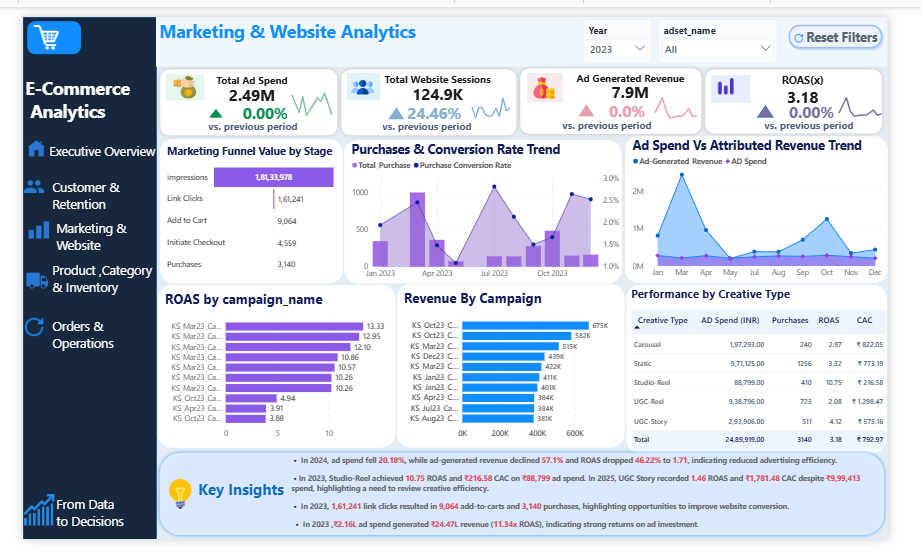

Layout of this report page (visuals, bound fields, positions):
{"tool":"powerbi","page":{"name":"Page 3","canvas":[1840,1110],"ordinal":2},"visuals":[{"type":"shape","box":[0,0,284.6,1500],"z":0},{"type":"actionButton","box":[1622.6,11.3,210.3,62.1],"z":0,"group":"g5"},{"type":"shape","box":[1048.2,101.1,403.6,157.9],"z":0,"group":"g4"},{"type":"shape","box":[1442.9,102,394.1,155],"z":0,"group":"g3"},{"type":"shape","box":[667.9,102.5,391.1,158.9],"z":0,"group":"g2"},{"type":"shape","box":[283.9,102.7,394.6,158.9],"z":0,"group":"g1"},{"type":"shape","box":[284,0,1556,106],"z":1000},{"type":"image","box":[1626,33.7,46.6,22.4],"z":1000,"group":"g5"},{"type":"cardVisual","title":"Ad Generated Revenue","fields":{"Data":["Dax_Measure-3.Ad-Generated_Revenue"]},"box":[1174.6,115.1,235.7,73.2],"z":1000,"group":"g4"},{"type":"cardVisual","title":"Total Website Sessions","fields":{"Data":["Dax_Measure-3.Total Website Sessions"]},"box":[765.6,117.2,232.1,78.2],"z":1000,"group":"g2"},{"type":"cardVisual","title":"ROAS(x)","fields":{"Data":["Dax_Measure-3.ROAS"]},"box":[1557.7,118.1,203.5,78.4],"z":1000,"group":"g3"},{"type":"cardVisual","title":"Total Ad Spend","fields":{"Data":["Dax_Measure-3.Total_AD_Spend"]},"box":[401.9,120.6,174.3,80.3],"z":1000,"group":"g1"},{"type":"textbox","box":[284.6,0,578.8,105.8],"z":2000},{"type":"shape","box":[688.3,120,71.4,58.2],"z":2000,"group":"g2"},{"type":"shape","box":[1072.5,120.3,76.4,62.4],"z":2000,"group":"g4"},{"type":"shape","box":[305,122.4,81.9,55.5],"z":2000,"group":"g1"},{"type":"shape","box":[1463.3,124.2,83.7,58.8],"z":2000,"group":"g3"},{"type":"shape","box":[8.2,8.2,115.6,71.1],"z":3000},{"type":"image","box":[8.9,17.8,82.2,53.3],"z":4000},{"type":"cardVisual","fields":{"Data":["Dax_Measure-3.AD_generated_revenue_YOY_growth %"]},"box":[1201.4,168.7,126.8,60.7],"z":4000,"group":"g4"},{"type":"cardVisual","fields":{"Data":["Dax_Measure-3.ROAS YoY Growth %"]},"box":[1588.3,171,143.1,60.6],"z":4000,"group":"g3"},{"type":"cardVisual","fields":{"Data":["Dax_Measure-3.Session_YOY_Growth %"]},"box":[803.9,181.5,133.9,44.6],"z":4000,"group":"g2"},{"type":"cardVisual","fields":{"Data":["Dax_Measure-3.Ad_Spend_YoY_Growth %"]},"box":[413.9,181.6,167.4,43.3],"z":4000,"group":"g1"},{"type":"textbox","box":[0,121.2,284.6,117.3],"z":5000},{"type":"image","box":[376.2,186.2,71.8,40.1],"z":5000,"group":"g1"},{"type":"textbox","box":[1572.9,210.2,230,40.3],"z":6000,"group":"g3"},{"type":"textbox","box":[1142.5,211.2,214.3,41.1],"z":6000,"group":"g4"},{"type":"textbox","box":[758.5,212.8,228.6,43.5],"z":6000,"group":"g2"},{"type":"textbox","box":[391.2,213.1,233.9,39.3],"z":6000,"group":"g1"},{"type":"image","box":[0,261.2,57.1,36.7],"z":6000},{"type":"lineChart","fields":{"Y":["Dax_Measure-3.Total_AD_Spend"],"Category":["Dim_Date.Year Month"]},"box":[557.4,141.4,114.5,77.9],"z":7000,"group":"g1"},{"type":"lineChart","fields":{"Category":["Dim_Date.Year Month"],"Y":["Dax_Measure-3.ROAS"]},"box":[1721.4,143.5,119.5,75.5],"z":7000,"group":"g3"},{"type":"lineChart","fields":{"Category":["Dim_Date.Year Month"],"Y":["Dax_Measure-3.Total Website Sessions"]},"box":[941.2,146.5,110.2,75.1],"z":7000,"group":"g2"},{"type":"lineChart","fields":{"Category":["Dim_Date.Year Month"],"Y":["Dax_Measure-3.Ad-Generated_Revenue"]},"box":[1329.8,147.3,117.9,77.7],"z":7000,"group":"g4"},{"type":"image","box":[0,322.4,46.9,75.5],"z":7000},{"type":"image","box":[0,424.5,65.3,55.1],"z":8000},{"type":"image","box":[1.9,532.7,55.6,46.3],"z":9000},{"type":"image","box":[0,634.7,46.9,51],"z":10000},{"type":"textbox","box":[50,261.5,248.1,61.5],"z":11000},{"type":"textbox","box":[57.7,338.5,226.9,86.5],"z":12000},{"type":"textbox","box":[65.4,425,219.2,90.4],"z":13000},{"type":"textbox","box":[57.4,514.9,229.8,89.4],"z":14000},{"type":"textbox","box":[57.7,634.6,226.9,88.5],"z":15000},{"type":"slicer","fields":{"Values":["Dim_Date.Year"]},"box":[1192.2,3.9,147.1,94.1],"z":16000},{"type":"group","id":"g1","title":"Total-Revenue KPI","box":[283.9,102.7,394.6,158.9],"z":16000,"group":"g6"},{"type":"lineChart","title":"Ad Spend Vs Attributed Revenue Trend","fields":{"Category":["Dim_Date.Month"],"Y":["Dax_Measure-3.Ad-Generated_Revenue","Dax_Measure-3.Total_AD_Spend"]},"box":[1280.4,253.6,558.9,312.5],"z":17000},{"type":"group","id":"g2","title":"Total-Revenue KPI","box":[667.9,102.5,391.1,158.9],"z":18000,"group":"g7"},{"type":"funnel","fields":{"Y":["Dax_Measure-3.Marketing Funnel Value"],"Category":["Marketing Funnel.Stage"]},"box":[291.1,258.9,389.3,307.1],"z":18000},{"type":"group","id":"g3","title":"Total-Revenue KPI","box":[1442.9,102,398,155],"z":19000,"group":"g9"},{"type":"lineClusteredColumnComboChart","title":"Purchases & Conversion Rate Trend","fields":{"Category":["Dim_Date.Year Month"],"Y":["Dax_Measure-3.Total_Purchase"],"Y2":["Dax_Measure-3.Purchase Conversion Rate"]},"box":[683.9,260.7,591.1,305.4],"z":19000},{"type":"image","box":[1474.1,123.2,42.2,47.4],"z":20000,"group":"g9"},{"type":"clusteredBarChart","title":"Revenue By Campaign","fields":{"Category":["public campaigninfo_clean.campaign_name"],"Y":["Dax_Measure-3.Ad-Generated_Revenue"]},"box":[796.4,567.9,483.9,348.2],"z":20000},{"type":"image","box":[689.3,126.7,67.3,48.5],"z":21000,"group":"g7"},{"type":"tableEx","title":"Performance by Creative Type","fields":{"Values":["public campaigninfo_clean.creative_type","Dax_Measure-3.Total_AD_Spend","Dax_Measure-3.Total_Purchase","Dax_Measure-3.ROAS","Dax_Measure-3.CAC"]},"box":[1283.9,569.6,555.4,357.1],"z":21000},{"type":"group","id":"g4","title":"Total-Revenue KPI","box":[1048.2,101.1,403.6,157.9],"z":22000,"group":"g8"},{"type":"clusteredBarChart","fields":{"Category":["public campaigninfo_clean.campaign_name"],"Y":["Dax_Measure-3.ROAS"]},"box":[287.5,569.6,505.4,346.4],"z":22000},{"type":"group","id":"g5","title":"Reset Button","box":[1622.6,11.3,210.2,61.2],"z":23000},{"type":"image","box":[1074.7,128,69.3,45.7],"z":23000,"group":"g8"},{"type":"image","box":[308.1,126.1,75.9,48.3],"z":24000,"group":"g6"},{"type":"shape","box":[282.1,919.6,1557.1,191.1],"z":24000},{"type":"image","box":[291.4,975.9,86,76],"z":25000},{"type":"textbox","box":[369,975.9,196.6,75.9],"z":26000},{"type":"textbox","box":[566,927.7,1272.3,170.2],"z":27000},{"type":"group","id":"g6","title":"Group 1","box":[283.9,102.7,394.6,158.9],"z":28000},{"type":"group","id":"g7","title":"Group 2","box":[667.9,102.5,391.1,158.9],"z":29000},{"type":"group","id":"g8","title":"Group 3","box":[1048.2,101.1,403.6,157.9],"z":30000},{"type":"group","id":"g9","title":"Group 4","box":[1442.9,102,398,155],"z":31000},{"type":"slicer","fields":{"Values":["public campaigninfo_clean.adset_name"]},"box":[1351,3.9,254.9,94.1],"z":32000},{"type":"image","box":[0,1015.7,66.7,66.7],"z":33000},{"type":"textbox","box":[66.7,1013.7,178.4,84.3],"z":34000},{"type":"shape","box":[1562.2,186.7,35.6,26.7],"z":35000},{"type":"shape","box":[1180,184.4,35.6,26.7],"z":36000},{"type":"shape","box":[775.6,191.1,35.6,26.7],"z":37000}]}

Visuals, with their boxes in screenshot pixels (x1, y1, x2, y2), scaled from the page's 1840x1110 canvas onto the 921x553 screenshot:
shape: crop(0, 0, 142, 552)
actionButton: crop(812, 6, 917, 37)
shape: crop(525, 50, 727, 129)
shape: crop(722, 51, 919, 128)
shape: crop(334, 51, 530, 130)
shape: crop(142, 51, 340, 130)
shape: crop(142, 0, 920, 53)
image: crop(814, 17, 837, 28)
"Ad Generated Revenue" cardVisual: crop(588, 57, 706, 94)
"Total Website Sessions" cardVisual: crop(383, 58, 499, 97)
"ROAS(x)" cardVisual: crop(780, 59, 882, 98)
"Total Ad Spend" cardVisual: crop(201, 60, 288, 100)
textbox: crop(142, 0, 432, 53)
shape: crop(345, 60, 380, 89)
shape: crop(537, 60, 575, 91)
shape: crop(153, 61, 194, 89)
shape: crop(732, 62, 774, 91)
shape: crop(4, 4, 62, 40)
image: crop(4, 9, 46, 35)
cardVisual - Dax_Measure-3.AD_generated_revenue_YOY_growth %: crop(601, 84, 665, 114)
cardVisual - Dax_Measure-3.ROAS YoY Growth %: crop(795, 85, 867, 115)
cardVisual - Dax_Measure-3.Session_YOY_Growth %: crop(402, 90, 469, 113)
cardVisual - Dax_Measure-3.Ad_Spend_YoY_Growth %: crop(207, 90, 291, 112)
textbox: crop(0, 60, 142, 119)
image: crop(188, 93, 224, 113)
textbox: crop(787, 105, 902, 125)
textbox: crop(572, 105, 679, 126)
textbox: crop(380, 106, 494, 128)
textbox: crop(196, 106, 313, 126)
image: crop(0, 130, 29, 148)
lineChart - Dax_Measure-3.Total_AD_Spend x Dim_Date.Year Month: crop(279, 70, 336, 109)
lineChart - Dim_Date.Year Month x Dax_Measure-3.ROAS: crop(862, 71, 920, 109)
lineChart - Dim_Date.Year Month x Dax_Measure-3.Total Website Sessions: crop(471, 73, 526, 110)
lineChart - Dim_Date.Year Month x Dax_Measure-3.Ad-Generated_Revenue: crop(666, 73, 725, 112)
image: crop(0, 161, 23, 198)
image: crop(0, 211, 33, 239)
image: crop(1, 265, 29, 288)
image: crop(0, 316, 23, 342)
textbox: crop(25, 130, 149, 161)
textbox: crop(29, 169, 142, 212)
textbox: crop(33, 212, 142, 257)
textbox: crop(29, 257, 144, 301)
textbox: crop(29, 316, 142, 360)
slicer - Dim_Date.Year: crop(597, 2, 670, 49)
"Total-Revenue KPI" group: crop(142, 51, 340, 130)
"Ad Spend Vs Attributed Revenue Trend" lineChart: crop(641, 126, 920, 282)
"Total-Revenue KPI" group: crop(334, 51, 530, 130)
funnel - Dax_Measure-3.Marketing Funnel Value x Marketing Funnel.Stage: crop(146, 129, 341, 282)
"Total-Revenue KPI" group: crop(722, 51, 920, 128)
"Purchases & Conversion Rate Trend" lineClusteredColumnComboChart: crop(342, 130, 638, 282)
image: crop(738, 61, 759, 85)
"Revenue By Campaign" clusteredBarChart: crop(399, 283, 641, 456)
image: crop(345, 63, 379, 87)
"Performance by Creative Type" tableEx: crop(643, 284, 920, 462)
"Total-Revenue KPI" group: crop(525, 50, 727, 129)
clusteredBarChart - public campaigninfo_clean.campaign_name x Dax_Measure-3.ROAS: crop(144, 284, 397, 456)
"Reset Button" group: crop(812, 6, 917, 36)
image: crop(538, 64, 573, 87)
image: crop(154, 63, 192, 87)
shape: crop(141, 458, 920, 552)
image: crop(146, 486, 189, 524)
textbox: crop(185, 486, 283, 524)
textbox: crop(283, 462, 920, 547)
"Group 1" group: crop(142, 51, 340, 130)
"Group 2" group: crop(334, 51, 530, 130)
"Group 3" group: crop(525, 50, 727, 129)
"Group 4" group: crop(722, 51, 920, 128)
slicer - public campaigninfo_clean.adset_name: crop(676, 2, 804, 49)
image: crop(0, 506, 33, 539)
textbox: crop(33, 505, 123, 547)
shape: crop(782, 93, 800, 106)
shape: crop(591, 92, 608, 105)
shape: crop(388, 95, 406, 109)
